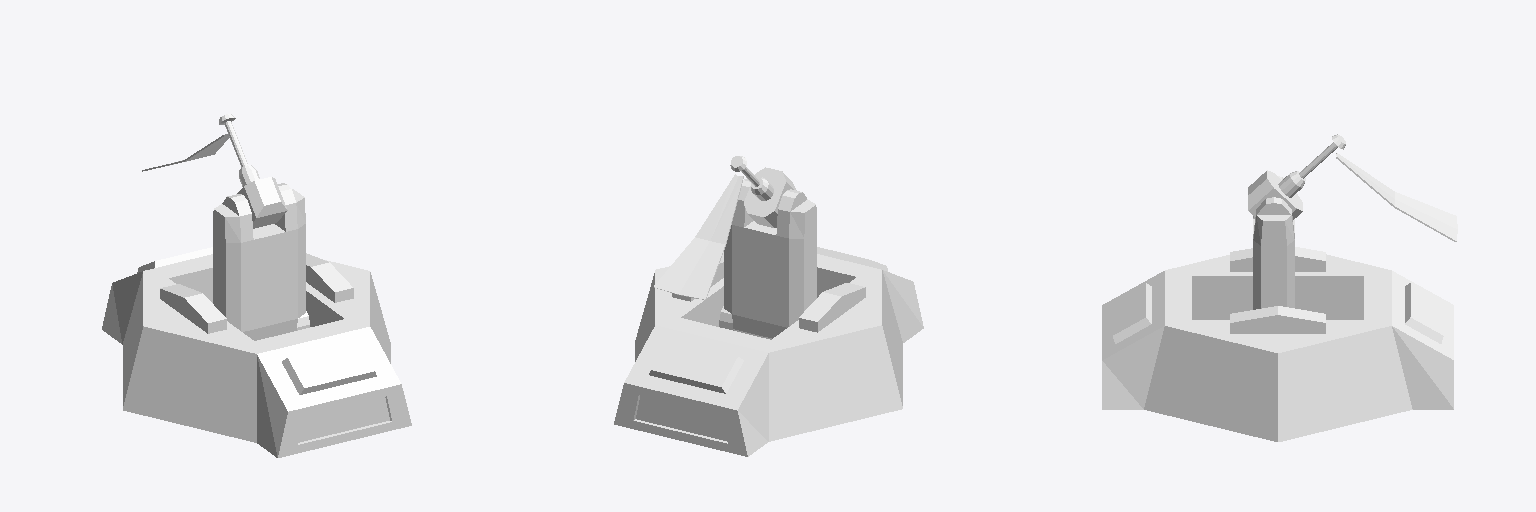
The model's file is UplinkBake.obj.
3 views of the same model, side by side, from view 1: azimuth 30°, elevation 25°; view 2: azimuth 150°, elevation 25°; view 3: azimuth 270°, elevation 25° (orthographic).
Parts seen in each view (by area): view 1: base, antennamas, antennarec; view 2: base, antennamas, dish1, antennarec; view 3: base, antennamas, dish1, antennarec.
Part boxes in pixels (x1,y1,x2,y2): base: (102, 247, 411, 457); antennamas: (213, 183, 305, 340); antennarec: (237, 165, 287, 228); base: (614, 247, 923, 456); antennamas: (724, 179, 816, 339); dish1: (654, 174, 743, 299); antennarec: (744, 167, 796, 227); base: (1102, 247, 1453, 441); antennamas: (1253, 176, 1294, 309); dish1: (1336, 153, 1457, 241); antennarec: (1248, 170, 1305, 219).
Bounding box in the file's own units: 79.8 × 68.68 × 91.5.